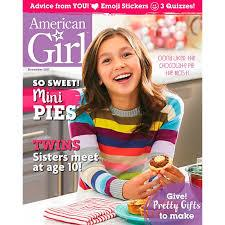Printing industry: (23, 1, 215, 225)
